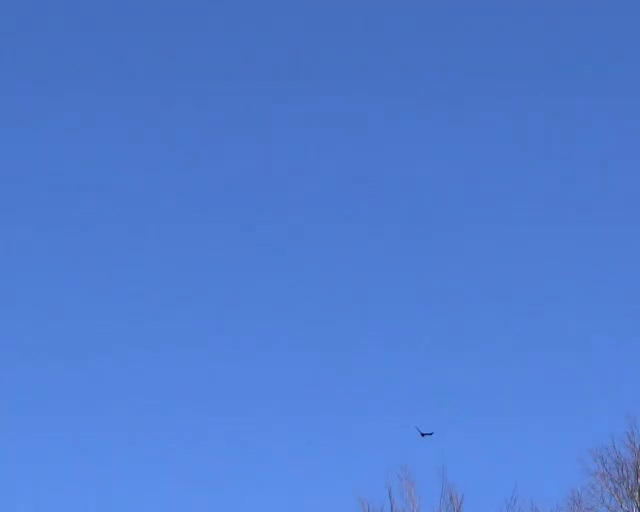BIRD: (415, 426, 433, 438)
